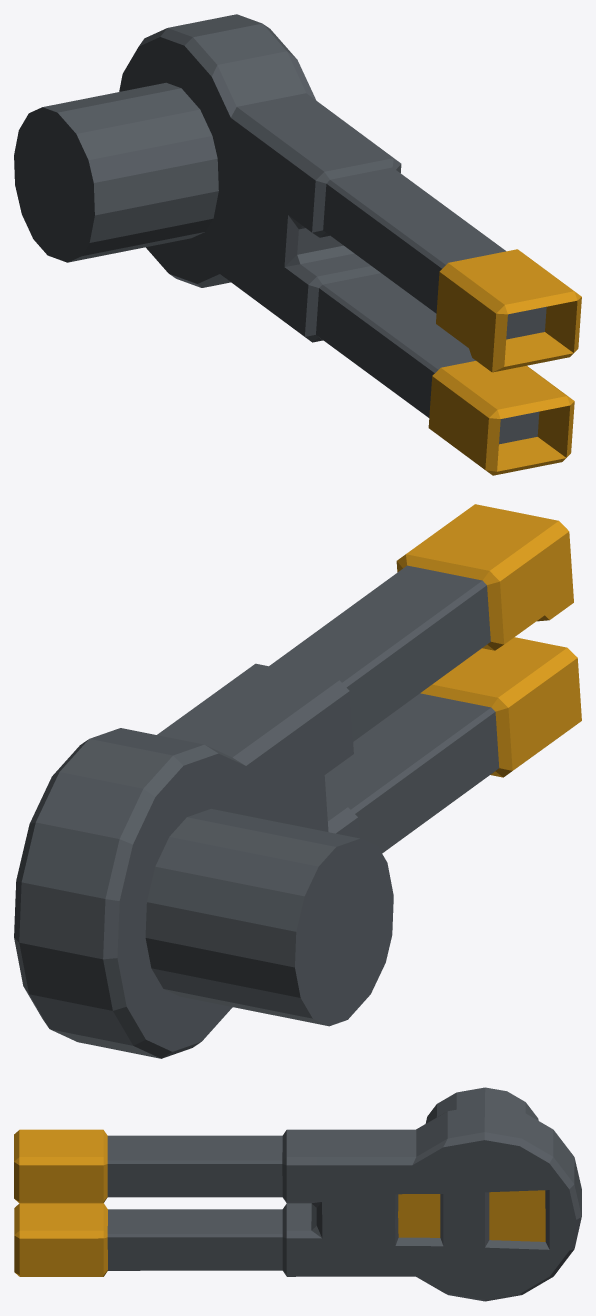
Rendered from Dropship_04_Artillery_Yellow.fbx.
3 views of the same model, one above another, from view 1: azimuth 30°, elevation 25°; view 2: azimuth 150°, elevation 25°; view 3: azimuth 270°, elevation 25° (orthographic). The views are drawn at different scales.
Parts seen in each view (by area): view 1: Dropship_04_Artillery_Yellow; view 2: Dropship_04_Artillery_Yellow; view 3: Dropship_04_Artillery_Yellow.
Boxes of the visible parts, left/top/right/bottom form: Dropship_04_Artillery_Yellow: left=14, top=14, right=581, bottom=475; Dropship_04_Artillery_Yellow: left=14, top=504, right=581, bottom=1058; Dropship_04_Artillery_Yellow: left=14, top=1087, right=581, bottom=1301.
Size of the model in its own units: 69.09 by 71.62 by 207.
Materials: 1 (1 with a texture image).
